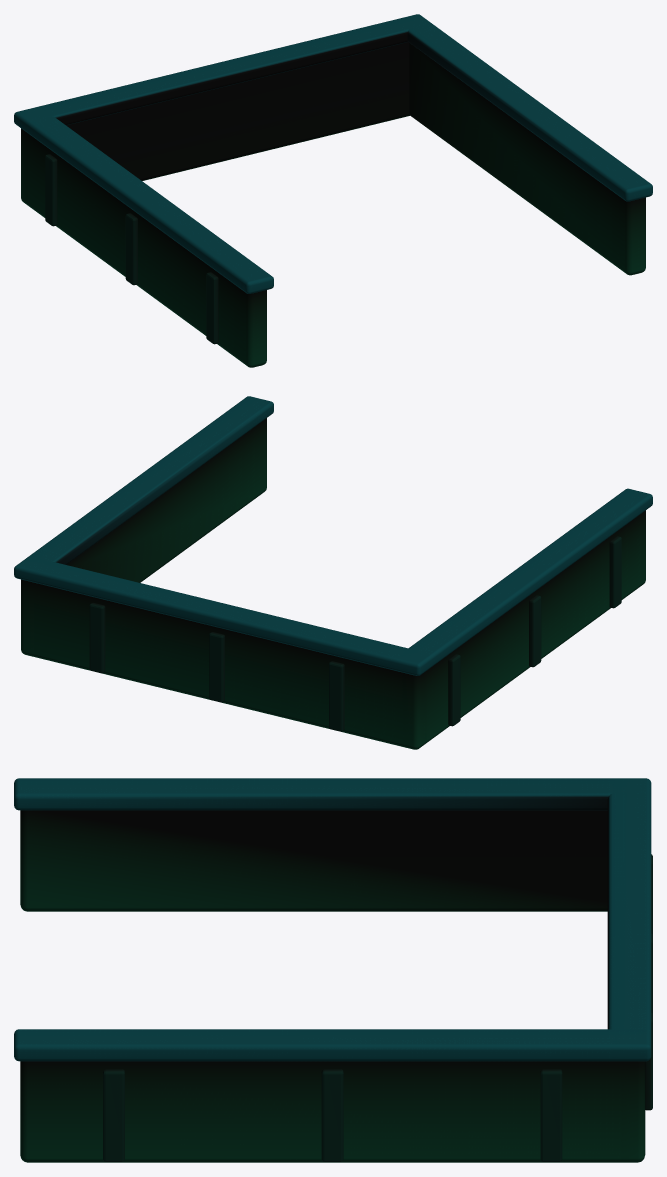
Rendered from bed_low.glb.
The picture shows the model from 3 angles, top to bottom: view 1: azimuth 30°, elevation 25°; view 2: azimuth 150°, elevation 25°; view 3: azimuth 270°, elevation 25°; orthographic projection. The views are drawn at different scales.
Parts seen in each view (by area): view 1: bed_low; view 2: bed_low; view 3: bed_low.
Part boxes in pixels (x1,y1,x2,y2): bed_low: [14, 14, 652, 367]; bed_low: [14, 396, 652, 749]; bed_low: [14, 778, 652, 1162].
Size of the model in its own units: 1.02 by 0.215 by 1.02.
1 material, 1 textured.
